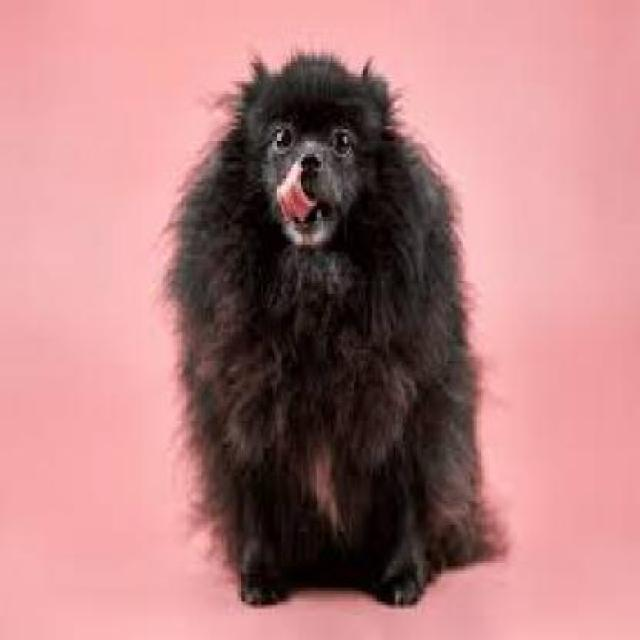animals: (166, 37, 523, 609)
